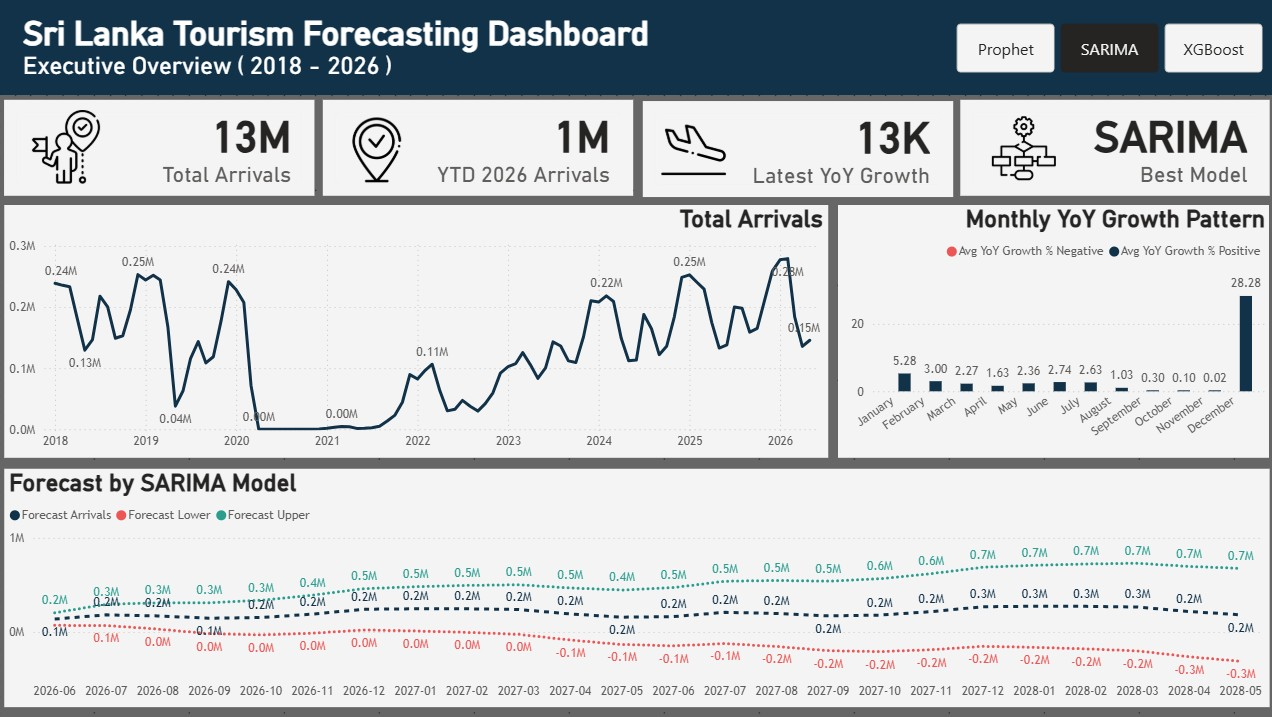

This screenshot's page, from the dashboard's own definition file:
{"tool":"powerbi","page":{"name":"Executive Overview","canvas":[1280,720],"ordinal":0},"visuals":[{"type":"shape","box":[0,0,1280,95],"z":0},{"type":"textbox","box":[20,8.8,667.5,77.5],"z":1000},{"type":"cardVisual","fields":{"Data":["MeasuresTable.Total Arrivals"]},"box":[1.2,95,320,106.2],"z":2000},{"type":"cardVisual","fields":{"Data":["MeasuresTable.YTD Arrivals Card"]},"box":[320,95,320,106.2],"z":3000},{"type":"cardVisual","fields":{"Data":["MeasuresTable.YoY Growth Card"]},"box":[640,96.2,320,106.2],"z":4000},{"type":"cardVisual","fields":{"Data":["MeasuresTable.Best Model by MAPE"]},"box":[957.5,95,320,106.2],"z":5000},{"type":"image","box":[11.2,110,113.8,73.8],"z":6000},{"type":"image","box":[338.8,117.5,80,65],"z":7000},{"type":"image","box":[651.2,117.5,88.8,65],"z":8000},{"type":"image","box":[976.2,116.2,98.8,63.8],"z":9000},{"type":"lineChart","title":"Total Arrivals ","fields":{"Y":["MeasuresTable.Total Arrivals"],"Category":["DimDate.Date"]},"box":[6.2,205,823.8,252.5],"z":10000},{"type":"clusteredColumnChart","title":"Monthly YoY Growth Pattern","fields":{"Y":["MeasuresTable.Avg YoY Growth % Negative","MeasuresTable.Avg YoY Growth % Positive"],"Category":["DimDate.Month Name"]},"box":[840,205,432,252.5],"z":11000},{"type":"lineChart","fields":{"Y":["MeasuresTable.Forecast Arrivals","MeasuresTable.Forecast Lower","MeasuresTable.Forecast Upper"],"Category":["DimDate.Year-Month"]},"box":[6.2,468.8,1266.2,238.8],"z":13000},{"type":"advancedSlicerVisual","title":"Model","fields":{"Values":["DimModel.model"]},"box":[953.8,18.5,317.5,59.1],"z":13001}]}

Visuals, with their boxes in screenshot pixels (x1, y1, x2, y2), scaled from the page's 1280x720 canvas onto the 1272x717 screenshot:
shape: crop(0, 0, 1271, 95)
textbox: crop(20, 9, 683, 86)
cardVisual - MeasuresTable.Total Arrivals: crop(1, 95, 319, 200)
cardVisual - MeasuresTable.YTD Arrivals Card: crop(318, 95, 636, 200)
cardVisual - MeasuresTable.YoY Growth Card: crop(636, 96, 954, 202)
cardVisual - MeasuresTable.Best Model by MAPE: crop(952, 95, 1270, 200)
image: crop(11, 110, 124, 183)
image: crop(337, 117, 416, 182)
image: crop(647, 117, 735, 182)
image: crop(970, 116, 1068, 179)
"Total Arrivals " lineChart: crop(6, 204, 825, 456)
"Monthly YoY Growth Pattern" clusteredColumnChart: crop(835, 204, 1264, 456)
lineChart - MeasuresTable.Forecast Arrivals x MeasuresTable.Forecast Lower: crop(6, 467, 1264, 705)
"Model" advancedSlicerVisual: crop(948, 18, 1263, 77)
